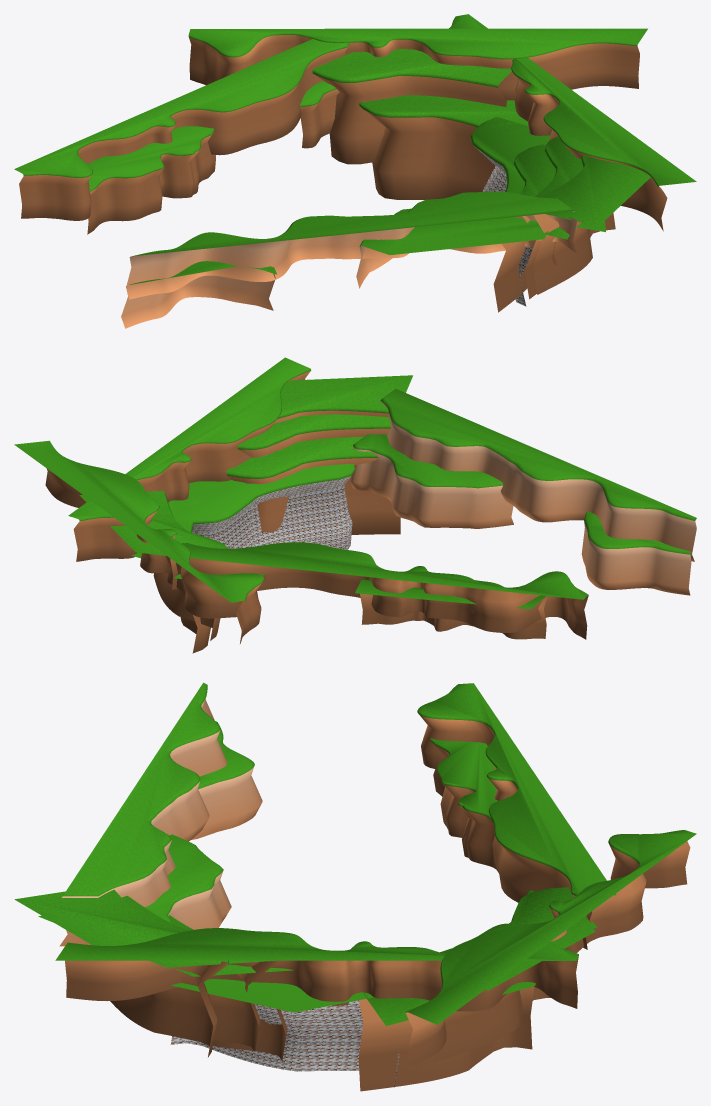
Rendered from cliffs.glb.
3 views of the same model, one above another, from view 1: azimuth 30°, elevation 25°; view 2: azimuth 150°, elevation 25°; view 3: azimuth 270°, elevation 25° (orthographic). The views are drawn at different scales.
Parts seen in each view (by area): view 1: Cliffs; view 2: Cliffs; view 3: Cliffs.
Part boxes in pixels (box(x1,y1,x2,y2)): Cliffs: box(14, 14, 696, 328); Cliffs: box(14, 357, 696, 653); Cliffs: box(14, 682, 696, 1091).
Bounding box in the file's own units: 628 × 130 × 526.
Materials: 2 (2 with a texture image).
